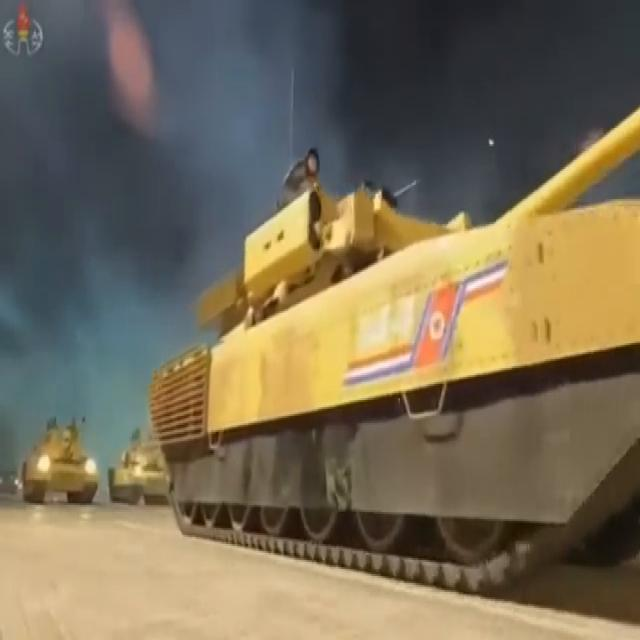north tank: (144, 83, 639, 640), (99, 412, 191, 529), (19, 396, 100, 504)
